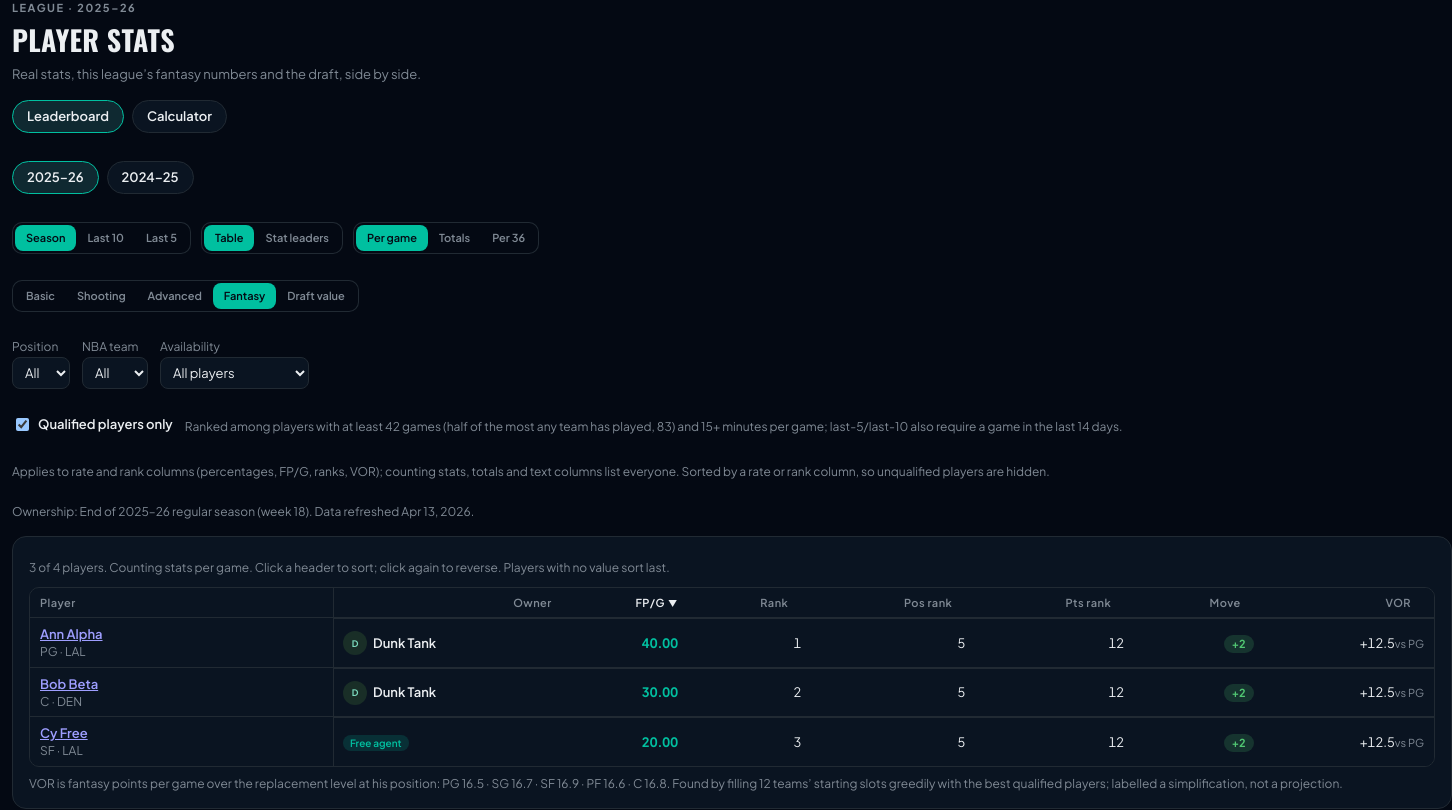
Test case: StatLeaderboard › draft columns › says undrafted when the draft is complete and the player has no pick, and links Draft Grades
Step 1. Click the button "Draft value" → (316, 296), box x1=276 y1=283 x2=356 y2=309
(page scrolled)
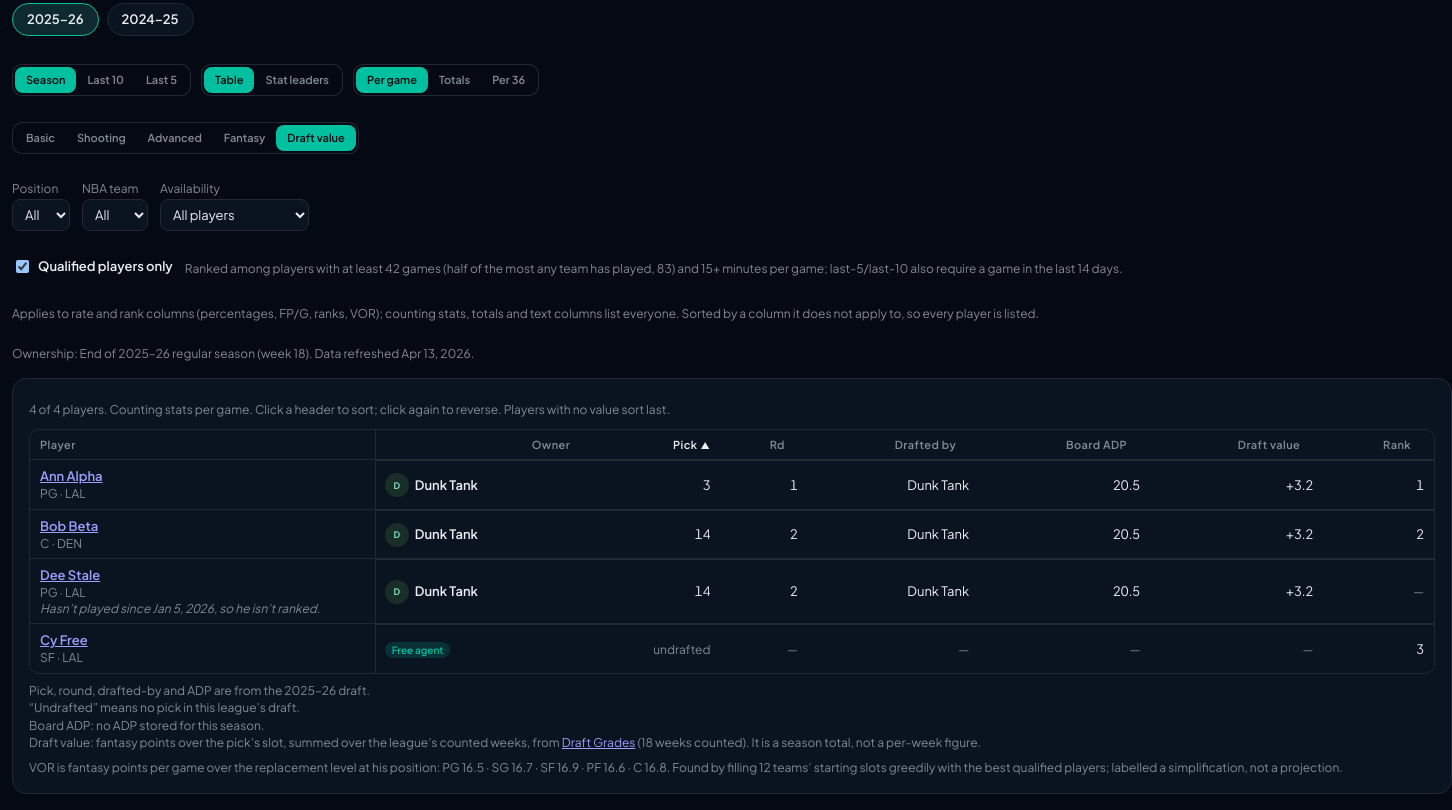
Now the text "undrafted" is shown, box x1=653 y1=642 x2=710 y2=657
Now the text "+3.2" in the row of "Ann Alpha" is shown, box x1=1286 y1=477 x2=1313 y2=493
Now the list item "summed over the league’s counted weeks" is shown, box x1=29 y1=735 x2=562 y2=750
